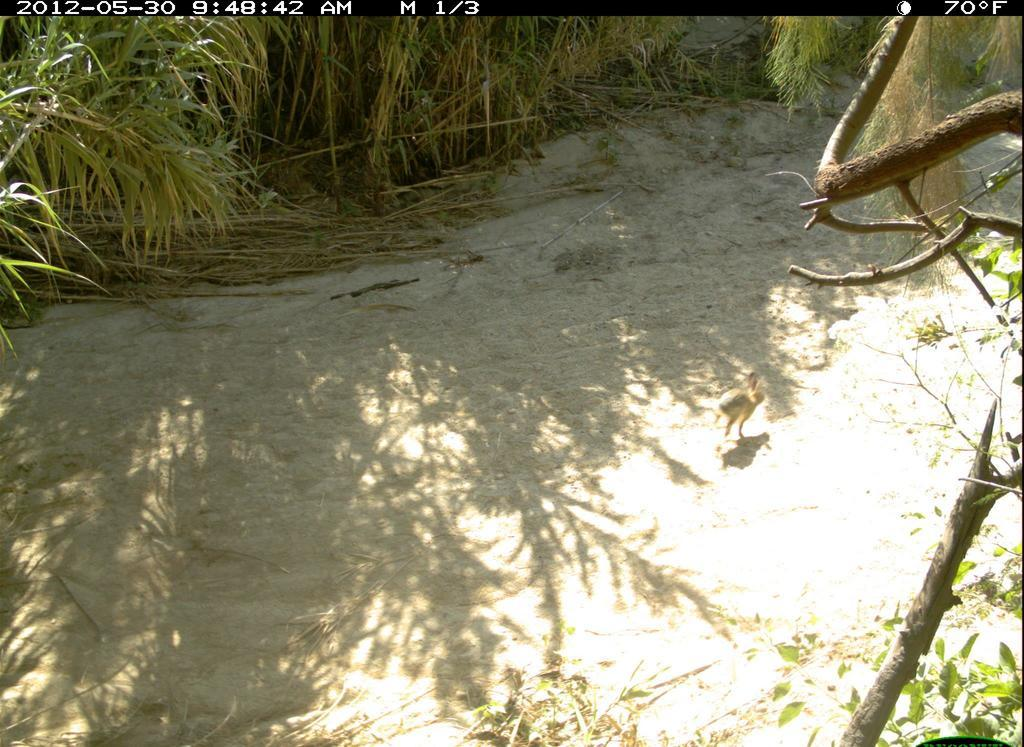rabbit: (705, 367, 771, 451)
